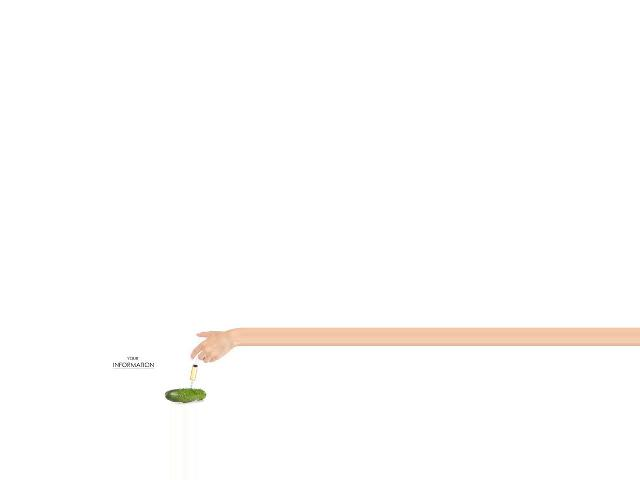cucumber: (165, 388, 207, 402)
